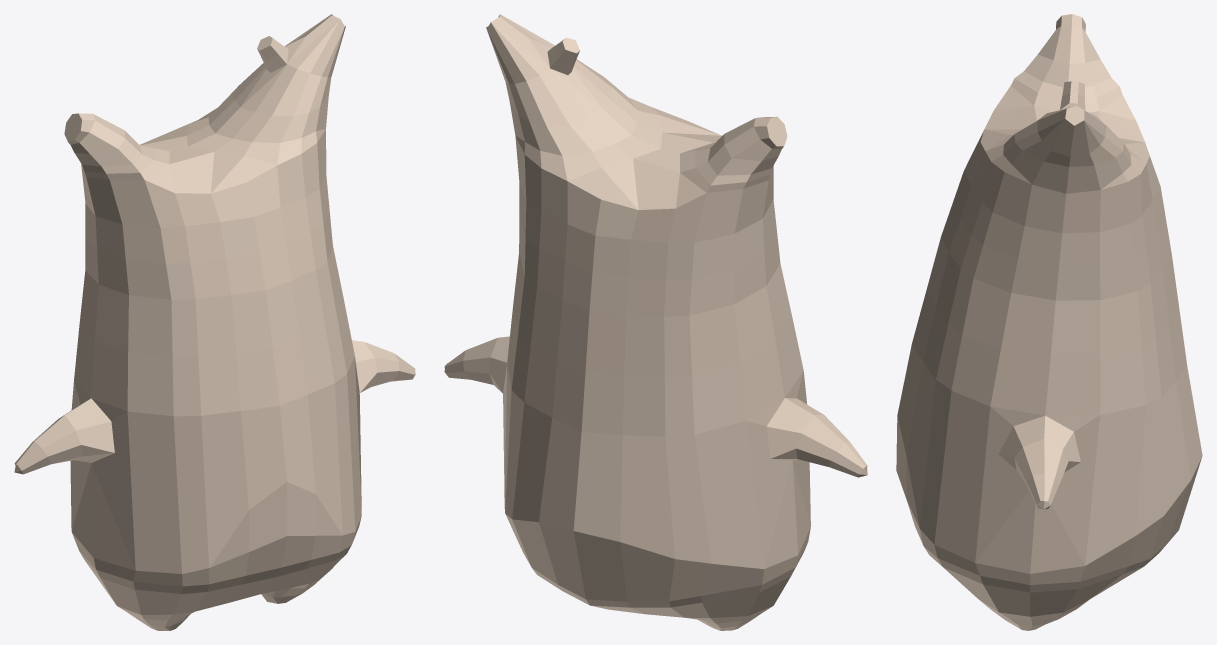
Rendered from frame_0021.obj.
The picture shows the model from 3 angles, left to right: view 1: azimuth 30°, elevation 25°; view 2: azimuth 150°, elevation 25°; view 3: azimuth 270°, elevation 25°; orthographic projection. The views are drawn at different scales.
Visible parts, largest first — view 1: korok; view 2: korok; view 3: korok.
Boxes of the visible parts, x1,y1,x2,y2 form: korok: [14, 14, 415, 630]; korok: [444, 14, 867, 630]; korok: [896, 14, 1202, 630].
Size of the model in its own units: 1.64 by 2.15 by 1.06.
